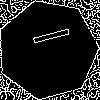I: (23, 24, 71, 50)
